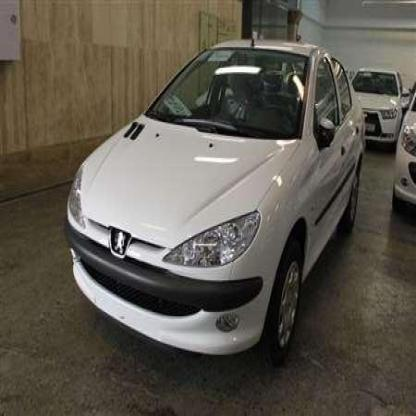Car: (59, 44, 362, 336), (350, 67, 398, 144), (386, 93, 416, 204)
